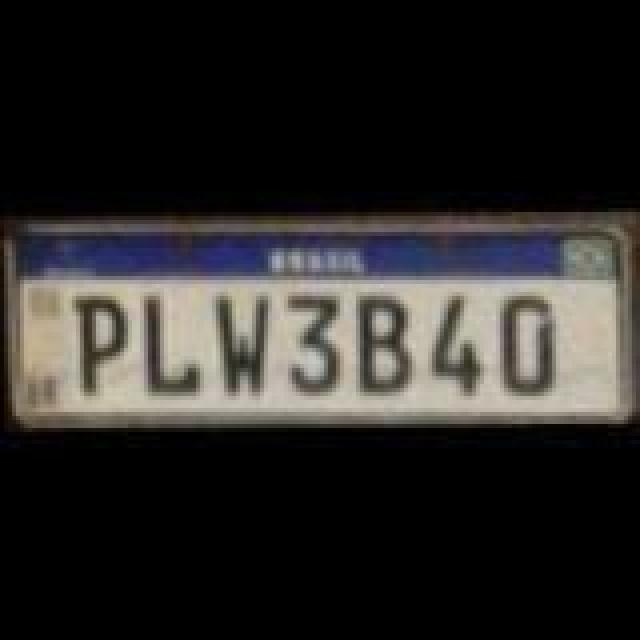3: (284, 296, 344, 396)
4: (432, 290, 484, 398)
B: (360, 294, 412, 394)
D: (500, 290, 560, 398)
L: (138, 290, 202, 394)
P: (68, 290, 128, 390)
W: (214, 296, 270, 392)
